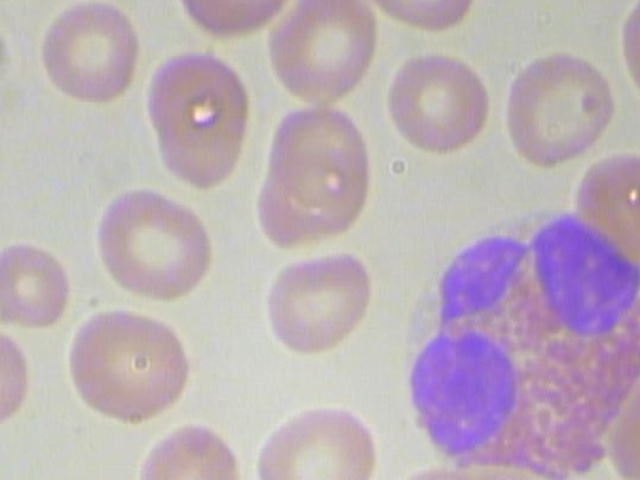RBC: (137, 46, 259, 193), (90, 180, 221, 314), (65, 302, 198, 427), (491, 46, 620, 170), (378, 48, 498, 163), (256, 0, 380, 111), (260, 245, 379, 360), (38, 0, 144, 112), (253, 393, 384, 480), (117, 414, 249, 480), (0, 231, 73, 333), (357, 0, 477, 38), (0, 314, 35, 434)
WBC: (384, 205, 640, 480)
